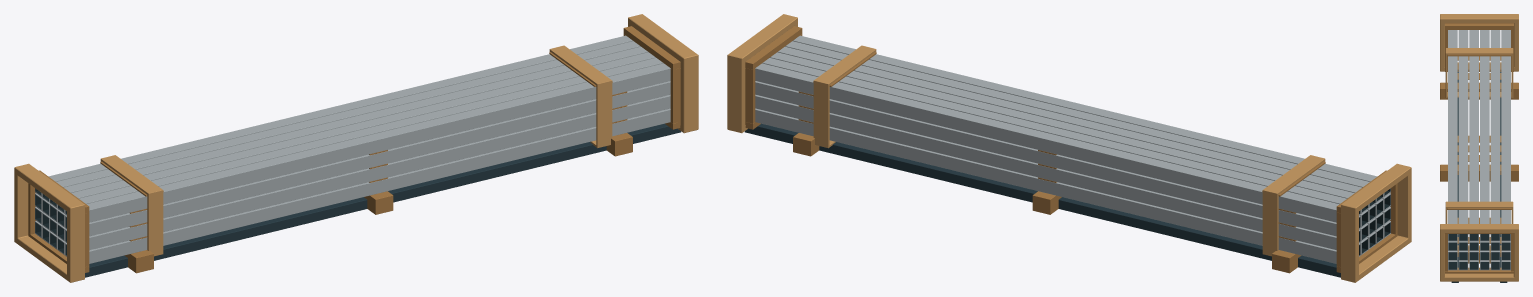
File: long-bundle.glb
3 renders of one model, left to right at view 1: azimuth 30°, elevation 25°; view 2: azimuth 150°, elevation 25°; view 3: azimuth 270°, elevation 25°, orthographic. The views are drawn at different scales.
Parts seen in each view (by area): view 1: long-bundle; view 2: long-bundle; view 3: long-bundle.
Part boxes in pixels (x1,y1,x2,y2): long-bundle: (14, 14, 698, 282); long-bundle: (727, 14, 1411, 282); long-bundle: (1440, 14, 1518, 282).
Bounding box in the file's own units: 4.2 × 0.52 × 0.65.
